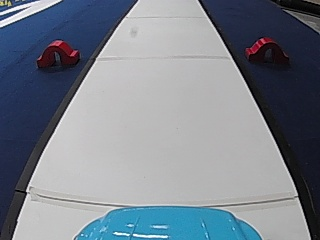bridge: (35, 36, 80, 70), (243, 33, 289, 65)
